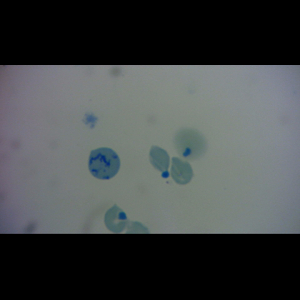aggregate reticulocyte: (87, 146, 122, 181)
erythrocyte: (147, 143, 172, 181), (102, 203, 129, 234), (169, 155, 195, 186)
